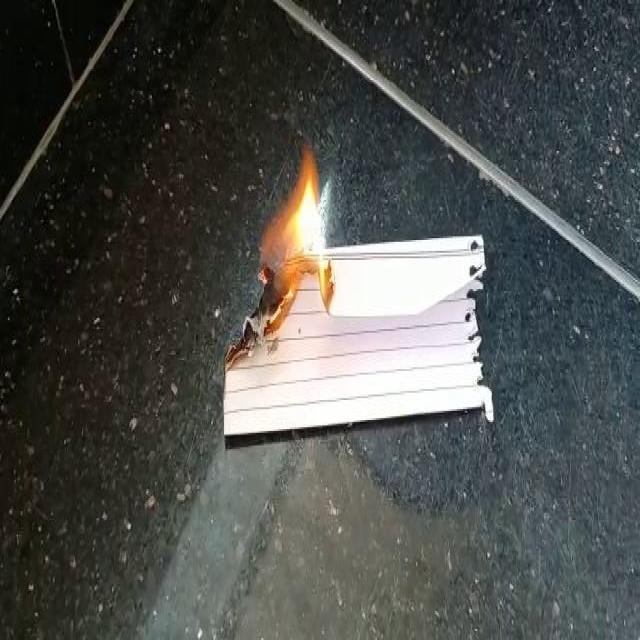Fire: (274, 159, 327, 267)
